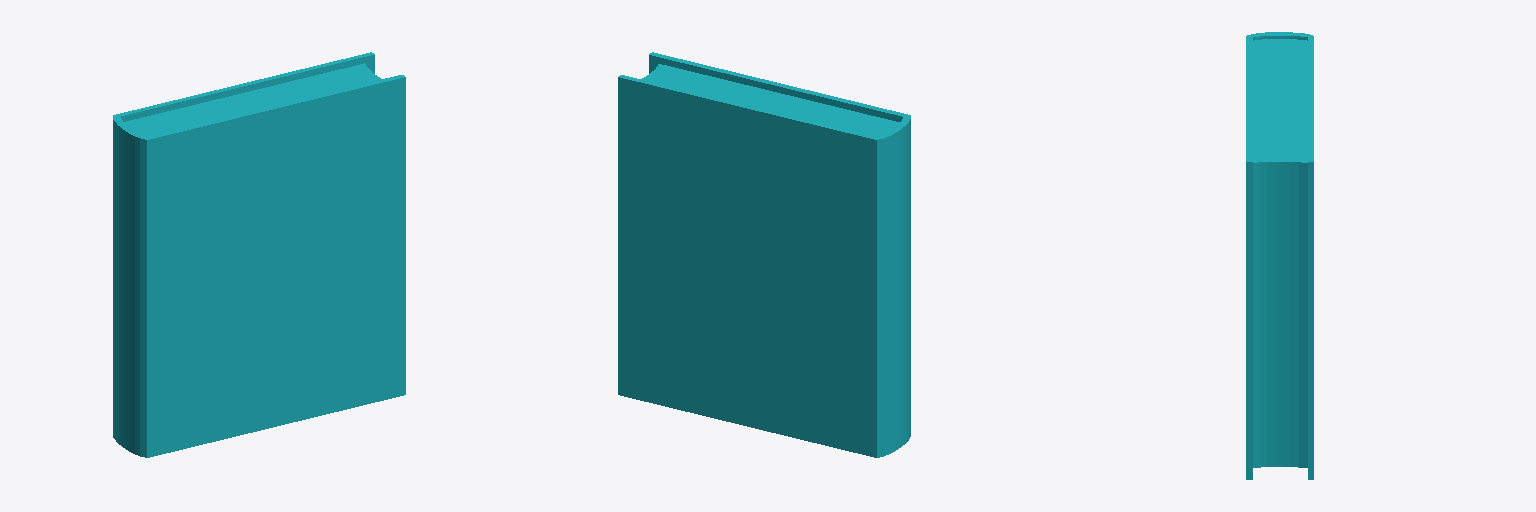
Rendered from book1.obj.
The picture shows the model from 3 angles: view 1: azimuth 30°, elevation 25°; view 2: azimuth 150°, elevation 25°; view 3: azimuth 270°, elevation 25°; orthographic projection.
Visible parts, largest first — view 1: Cube.001; view 2: Cube.001; view 3: Cube.001.
Boxes of the visible parts, <box> form: Cube.001: <box>113,52,405,457</box>; Cube.001: <box>618,52,910,457</box>; Cube.001: <box>1246,32,1313,479</box>.
Size of the model in its own units: 0.4137 by 0.4733 by 0.0919.